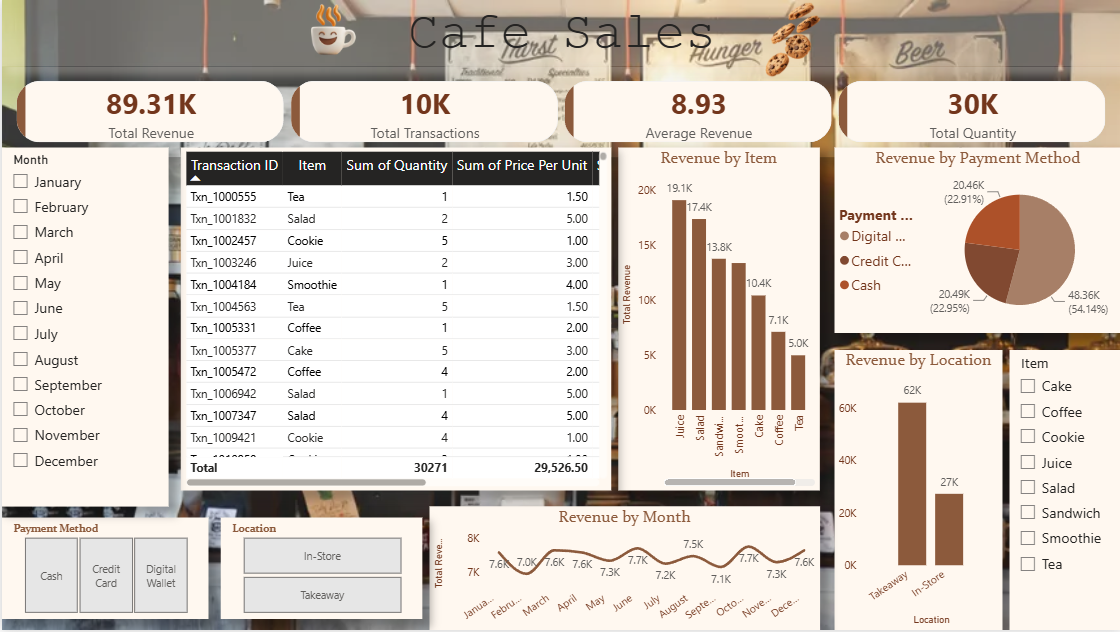

What the dashboard file says about the page in this screenshot:
{"tool":"powerbi","page":{"name":"Page 1","canvas":[1280,720],"ordinal":0},"visuals":[{"type":"cardVisual","fields":{"Data":["Sheet1.Total Revenue","Sheet1.Total Transactions","Sheet1.Average Revenue","Sheet1.Total Quantity"]},"box":[0,76,1280,104],"z":0},{"type":"columnChart","title":"Revenue by Item","fields":{"Category":["Sheet1.Item"],"Y":["Sheet1.Total Revenue"]},"box":[704,168,230,392],"z":1},{"type":"pieChart","title":"Revenue by Payment Method","fields":{"Category":["Sheet1.Payment Method"],"Y":["Sheet1.Total Revenue"]},"box":[952,168,328,212],"z":2},{"type":"columnChart","title":"Revenue by Location","fields":{"Category":["Sheet1.Location"],"Y":["Sheet1.Total Revenue"]},"box":[952,400,192,320],"z":3},{"type":"lineChart","title":"Revenue by Month","fields":{"Y":["Sheet1.Total Revenue"],"Category":["Sheet1.Transaction Date.Variation.Date Hierarchy.Month"]},"box":[488,578,446,142],"z":4},{"type":"tableEx","fields":{"Values":["Sheet1.Transaction ID","Sheet1.Item","Sum(Sheet1.Quantity)","Sum(Sheet1.Price Per Unit)","Sum(Sheet1.Total Spent)","Sheet1.Payment Method","Sheet1.Location"]},"box":[204,168,492,392],"z":5},{"type":"slicer","fields":{"Values":["Sheet1.Item"]},"box":[1152,400,128,320],"z":6},{"type":"slicer","fields":{"Values":["Sheet1.Payment Method"]},"box":[0,592,236,116],"z":7},{"type":"slicer","fields":{"Values":["Sheet1.Location"]},"box":[250,592,230,116],"z":8},{"type":"slicer","fields":{"Values":["Sheet1.Transaction Date.Variation.Date Hierarchy.Month"]},"box":[0,168,190,410],"z":9},{"type":"textbox","box":[0,0,1280,76],"z":10},{"type":"image","box":[190,0,350,90],"z":11},{"type":"image","box":[748,0,300,90],"z":12}]}

Visuals, with their boxes in screenshot pixels (x1, y1, x2, y2), scaled from the page's 1280x720 canvas onto the 1120x632 screenshot:
cardVisual - Sheet1.Total Revenue x Sheet1.Total Transactions: box(0, 67, 1119, 158)
"Revenue by Item" columnChart: box(616, 147, 817, 492)
"Revenue by Payment Method" pieChart: box(833, 147, 1119, 334)
"Revenue by Location" columnChart: box(833, 351, 1001, 631)
"Revenue by Month" lineChart: box(427, 507, 817, 631)
tableEx - Sheet1.Transaction ID x Sheet1.Item: box(178, 147, 609, 492)
slicer - Sheet1.Item: box(1008, 351, 1119, 631)
slicer - Sheet1.Payment Method: box(0, 520, 206, 621)
slicer - Sheet1.Location: box(219, 520, 420, 621)
slicer - Sheet1.Transaction Date.Variation.Date Hierarchy.Month: box(0, 147, 166, 507)
textbox: box(0, 0, 1119, 67)
image: box(166, 0, 472, 79)
image: box(654, 0, 917, 79)
